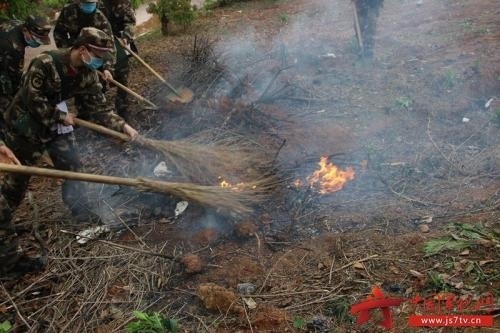fire: (294, 154, 365, 194), (215, 176, 258, 192)
